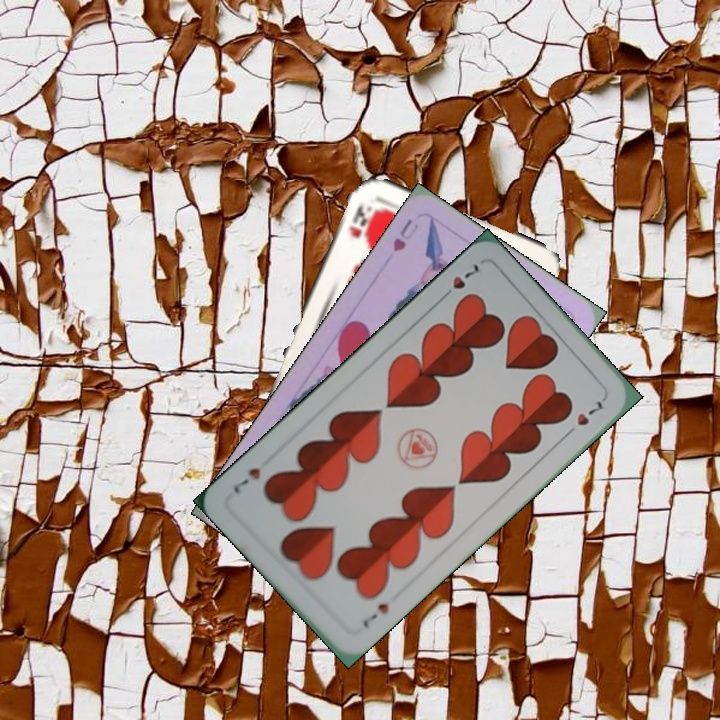H7: (436, 259, 482, 303), (358, 599, 392, 631)
HK: (345, 200, 378, 241)
HU: (389, 214, 422, 255)
